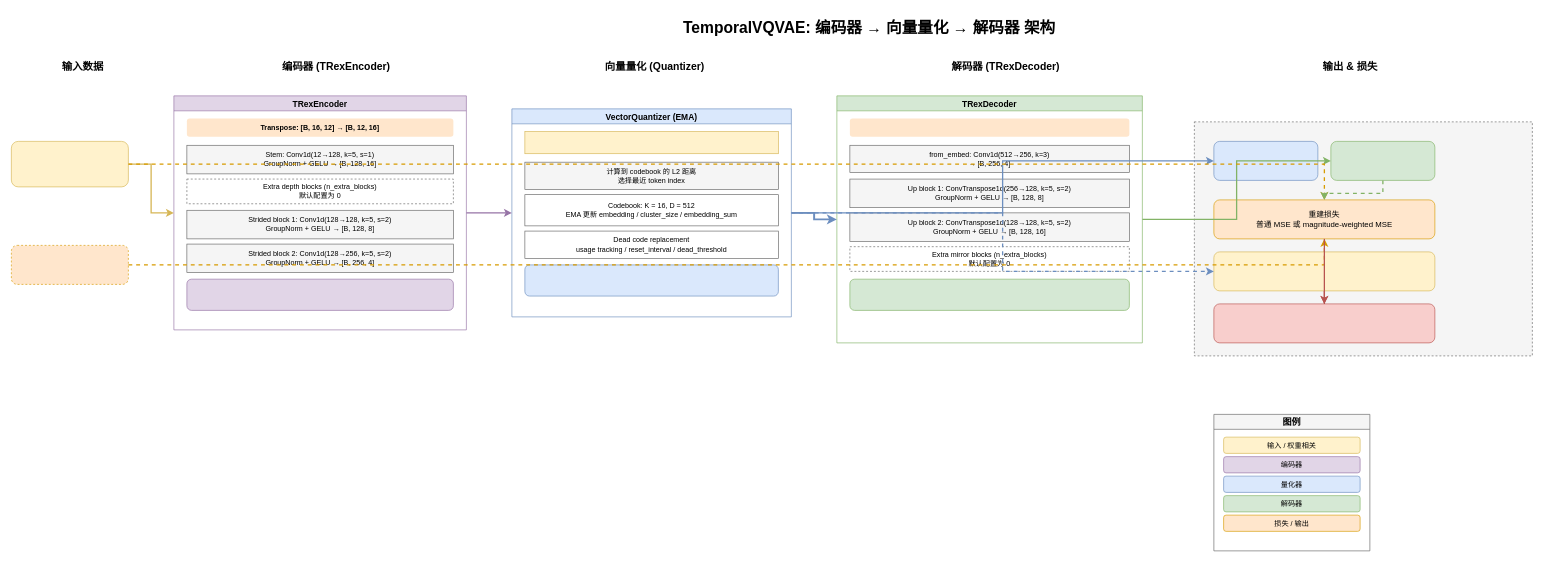
This 1544x562 diagram has some shape labels left out. The centre of each missing label's shape, as x and y in pixels:
Expand z_q over bottleneck time [B, 512] → [B, 512, 4]: (x=989, y=127)
Head: Conv1d(128→12, k=5) Transpose back → x_recon [B, 16, 12]: (x=989, y=294)
Projection: Conv1d(256→512, k=3) Mean pool over time → z_e [B, 512]: (x=319, y=294)
RMSNorm(z_e) → z_e_normalized [B, 512]: (x=651, y=142)
VQ loss commitment_cost * MSE(z_e_norm, z_q): (x=1324, y=271)
原始力度 magnitude (可选) [B]: (x=69, y=264)
总损失 total_loss = recon_loss + vq_loss: (x=1324, y=323)
离散 token indices [B]: (x=1265, y=160)
触觉力历史 x: [B, 16, 12]: (x=69, y=164)
输出: indices [B] + z_q [B, 512] Straight-through estimator: (x=651, y=280)
重建输出 x_recon [B, 16, 12]: (x=1382, y=160)
